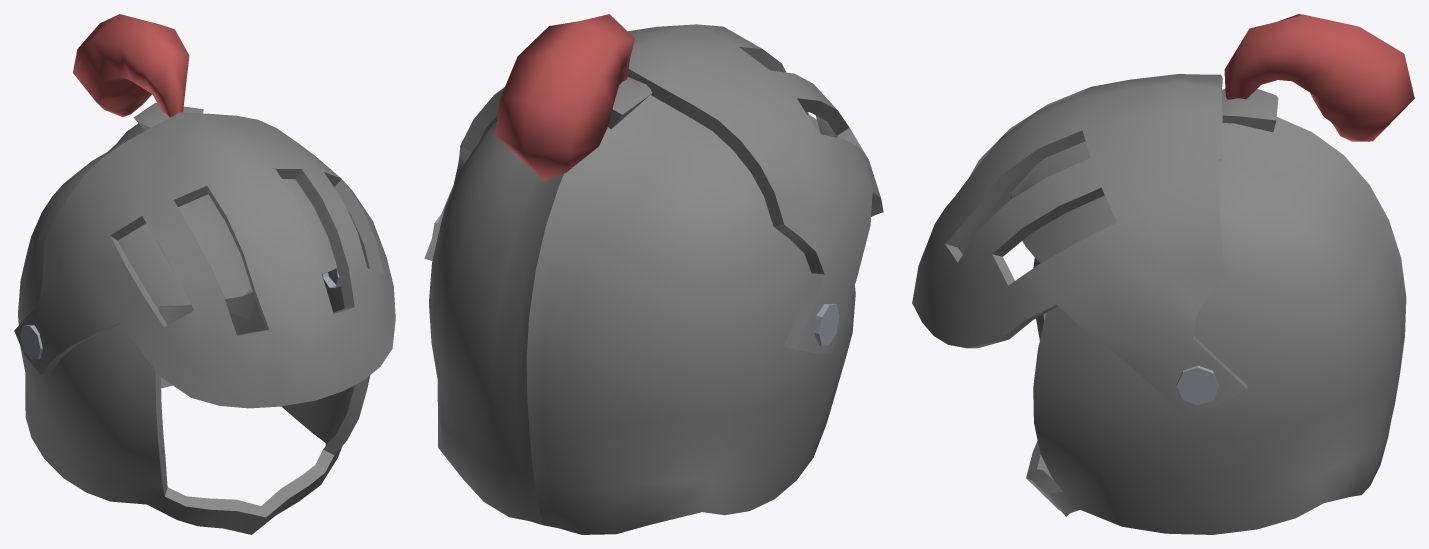
Rendered from 24骑士头盔Alt.fbx.
3 renders of one model, left to right at view 1: azimuth 30°, elevation 25°; view 2: azimuth 150°, elevation 25°; view 3: azimuth 270°, elevation 25°, orthographic. The views are drawn at different scales.
Parts seen in each view (by area): view 1: 24骑士头盔Alt; view 2: 24骑士头盔Alt; view 3: 24骑士头盔Alt.
Part boxes in pixels (x1=…): 24骑士头盔Alt: x1=14, y1=14, x2=395, y2=534; 24骑士头盔Alt: x1=424, y1=14, x2=883, y2=534; 24骑士头盔Alt: x1=912, y1=14, x2=1414, y2=534.
Size of the model in its own units: 0.4613 by 0.595 by 0.5476.
